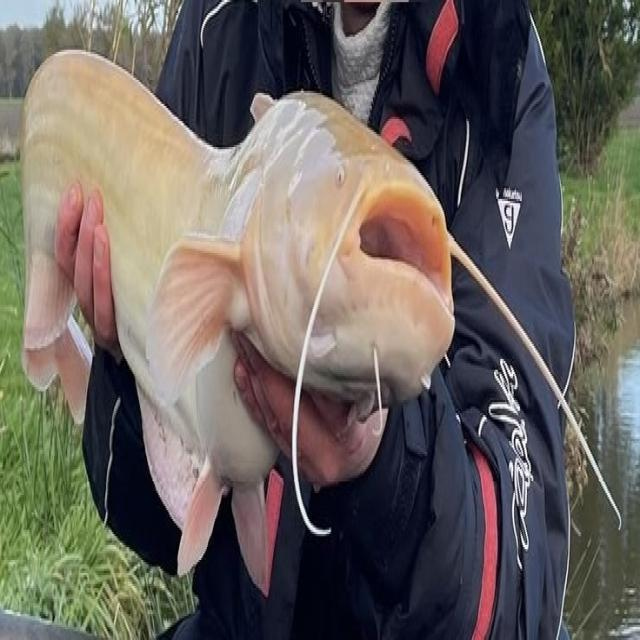Catfish: (15, 35, 628, 633)
